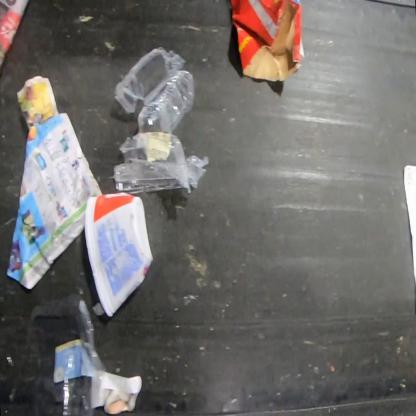cardboard: (230, 0, 306, 83)
rigid_plastic: (114, 48, 209, 195), (84, 192, 157, 319)
soft_plastic: (0, 291, 107, 415)
